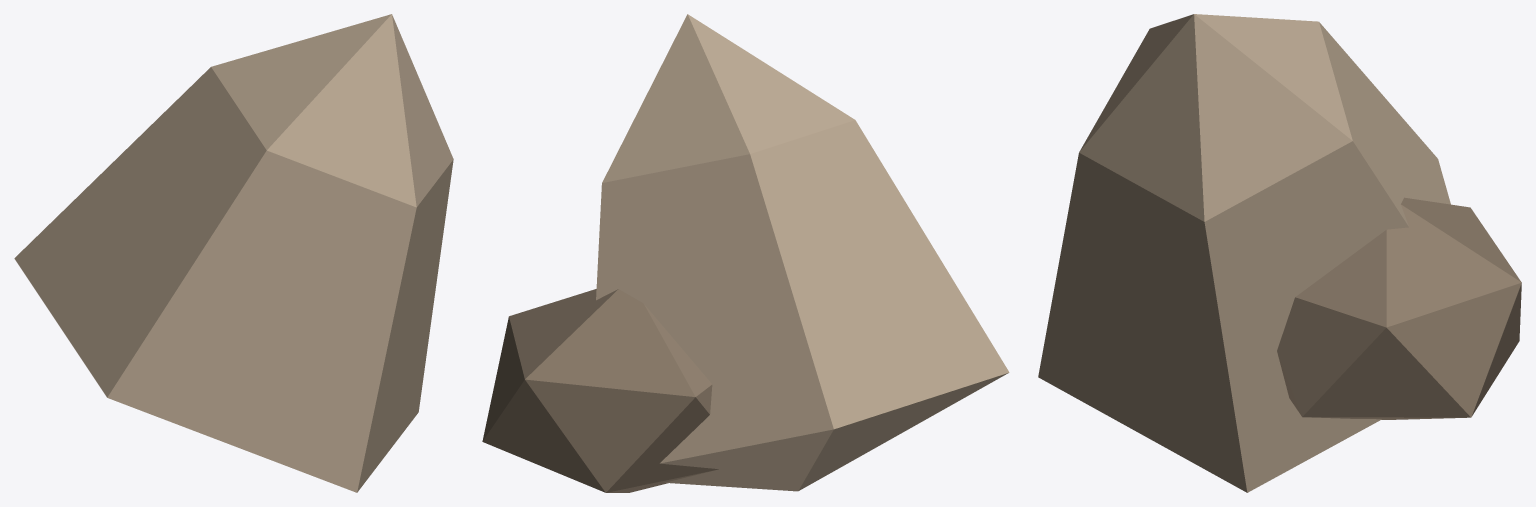
Rendered from debris-3.glb.
The picture shows the model from 3 angles, left to right: view 1: azimuth 30°, elevation 25°; view 2: azimuth 150°, elevation 25°; view 3: azimuth 270°, elevation 25°; orthographic projection. The views are drawn at different scales.
Parts seen in each view (by area): view 1: debris-3; view 2: debris-3; view 3: debris-3.
Part boxes in pixels (left/top/right/bottom): debris-3: left=14, top=14, right=453, bottom=492; debris-3: left=482, top=14, right=1009, bottom=492; debris-3: left=1038, top=14, right=1521, bottom=492.
Bounding box in the file's own units: 0.3856 × 0.4063 × 0.3938.
